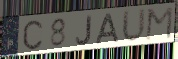8: (48, 17, 66, 49)
A: (96, 12, 122, 45)
C: (22, 19, 44, 51)
J: (74, 14, 92, 46)
M: (144, 6, 174, 43)
U: (121, 7, 147, 45)
